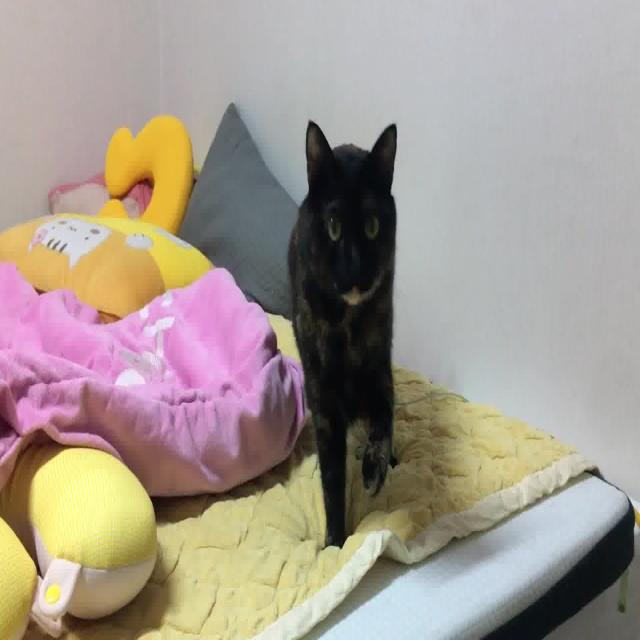cat: (284, 117, 402, 556)
